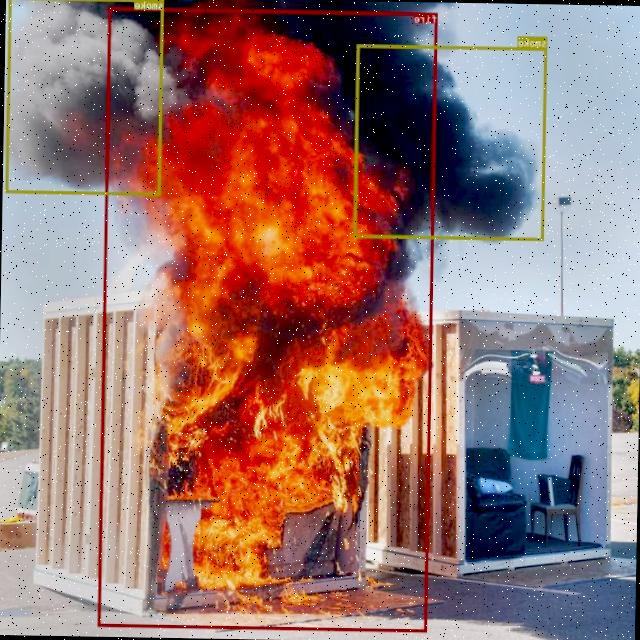fire: (98, 6, 438, 632)
smoke: (354, 44, 547, 240), (5, 0, 164, 195)
